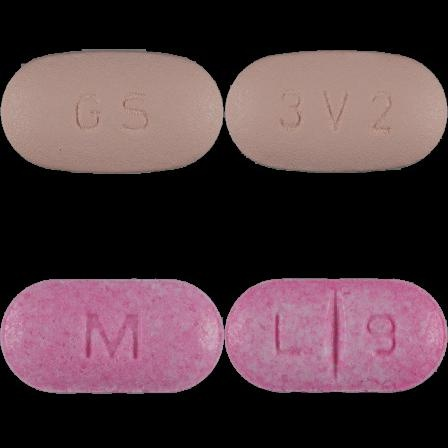54868-6093: (0, 0, 224, 224)
